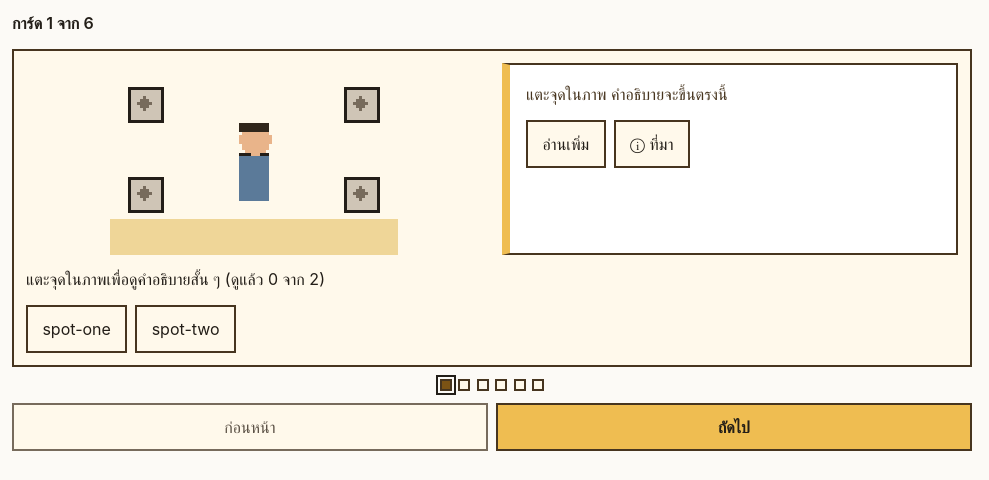
Test: shows the short text in the info window beside the picture and marks the spot explored
Expected: the text "แตะจุดในภาพ คำอธิบายจะขึ้นตรงนี้" is shown, [526, 84, 728, 104]
Click the button "spot-one". click: (77, 329)
box: [26, 305, 127, 353]
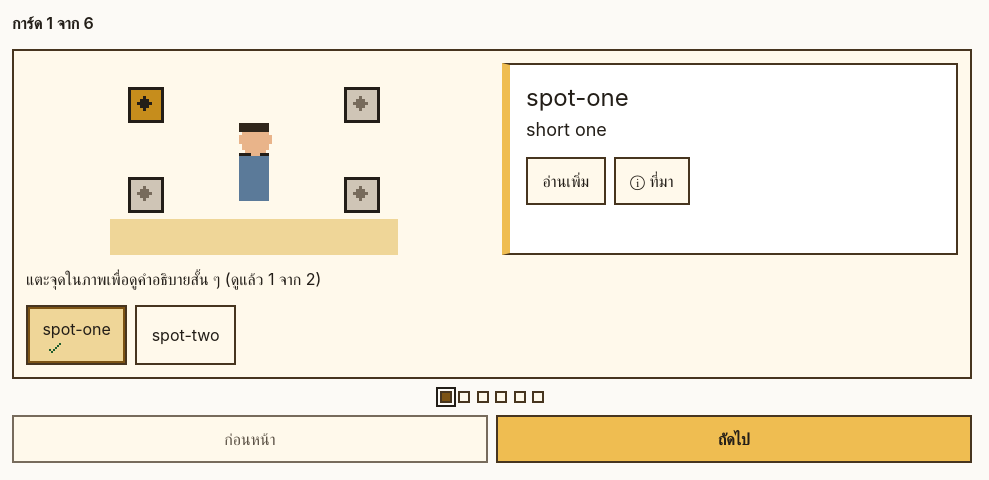
Expected: the button "ถัดไป" is enabled, [496, 415, 972, 463]
Now the element named "คำอธิบาย" shows "short one", box [526, 119, 607, 140]
